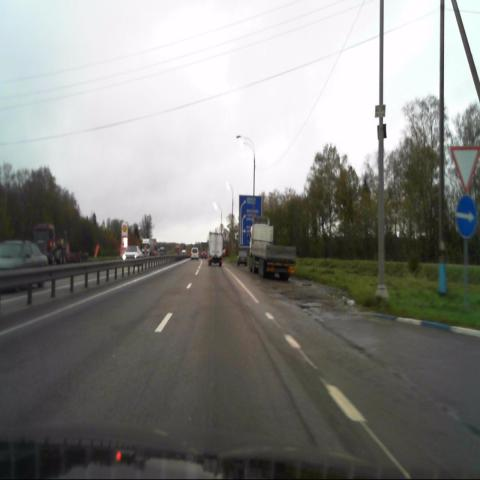4_1_2_1: (456, 195, 477, 237)
